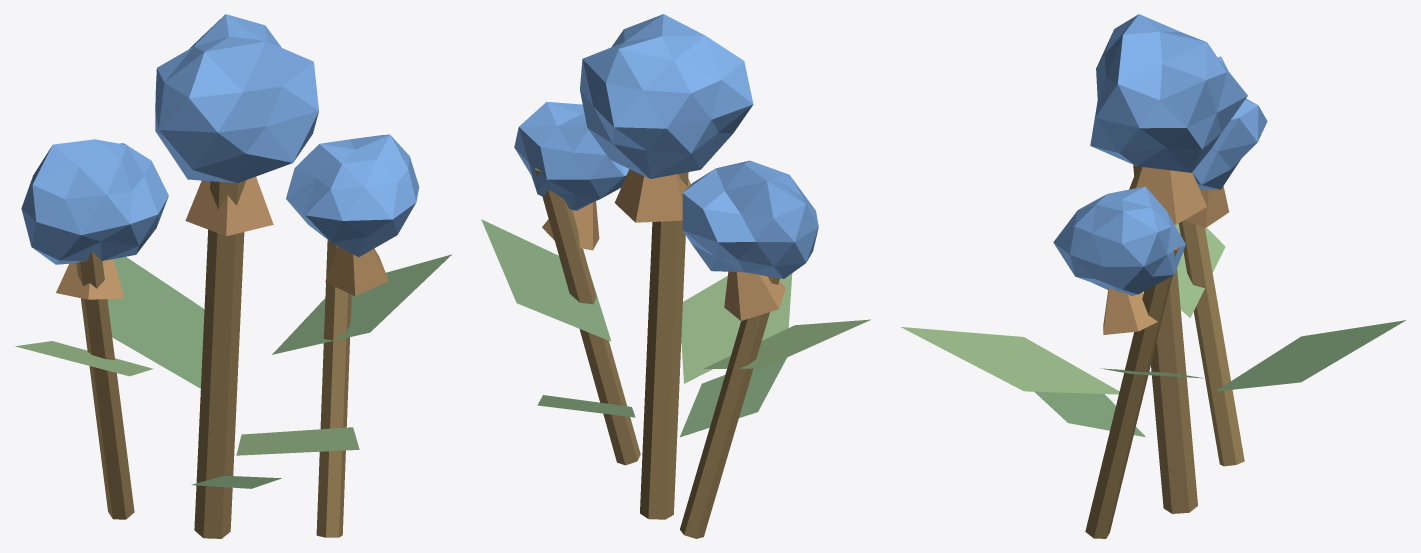
File: t4_fiber_full.glb
3 renders of one model, left to right at view 1: azimuth 30°, elevation 25°; view 2: azimuth 150°, elevation 25°; view 3: azimuth 270°, elevation 25°, orthographic. The views are drawn at different scales.
Visible parts, largest first — view 1: CenterCottonBoll, LeftCottonBoll, CenterStem, RightCottonBoll, BackLeaf, LeftStem, RightStem, RightLeaf, CenterHusk, FrontLeaf, RightHusk, LeftLeaf (+2 smaller); view 2: CenterCottonBoll, LeftCottonBoll, CenterStem, RightCottonBoll, RightStem, LeftStem, RightLeaf, FrontLeaf, CenterHusk, LowLeaf, LeftLeaf, LeftHusk (+2 smaller); view 3: CenterCottonBoll, RightCottonBoll, CenterStem, FrontLeaf, RightStem, LeftStem, BackLeaf, LeftCottonBoll, CenterHusk, LowLeaf, RightHusk, LeftLeaf (+1 smaller).
Part boxes in pixels (x1,y1,x2,y2): CenterCottonBoll: (155,14,318,183); LeftCottonBoll: (21,139,168,264); CenterStem: (194,180,245,538); RightCottonBoll: (286,134,419,257); BackLeaf: (107,257,204,388); LeftStem: (76,251,134,519); RightStem: (316,240,351,537); RightLeaf: (272,254,451,354); CenterHusk: (185,176,273,236); FrontLeaf: (236,427,359,455); RightHusk: (325,246,388,296); LeftLeaf: (15,341,153,376); CenterCottonBoll: (580,14,753,178); LeftCottonBoll: (682,160,818,278); CenterStem: (640,172,688,519); RightCottonBoll: (514,102,629,210); RightStem: (535,168,640,465); LeftStem: (680,276,779,538); RightLeaf: (481,219,611,341); FrontLeaf: (681,273,792,383); CenterHusk: (614,169,690,222); LowLeaf: (680,357,786,437); LeftLeaf: (703,319,870,368); LeftHusk: (724,271,785,320); CenterCottonBoll: (1090,14,1247,172); RightCottonBoll: (1053,186,1185,295); CenterStem: (1133,165,1197,513); FrontLeaf: (901,327,1119,394); RightStem: (1085,245,1179,538); LeftStem: (1178,220,1244,466); BackLeaf: (1215,320,1406,391); LeftCottonBoll: (1192,56,1267,189); CenterHusk: (1129,167,1206,224); LowLeaf: (1034,391,1145,437); RightHusk: (1103,287,1157,334); LeftLeaf: (1175,223,1225,317).
Bounding box in the file's own units: 0.9519 × 1.08 × 1.02.
